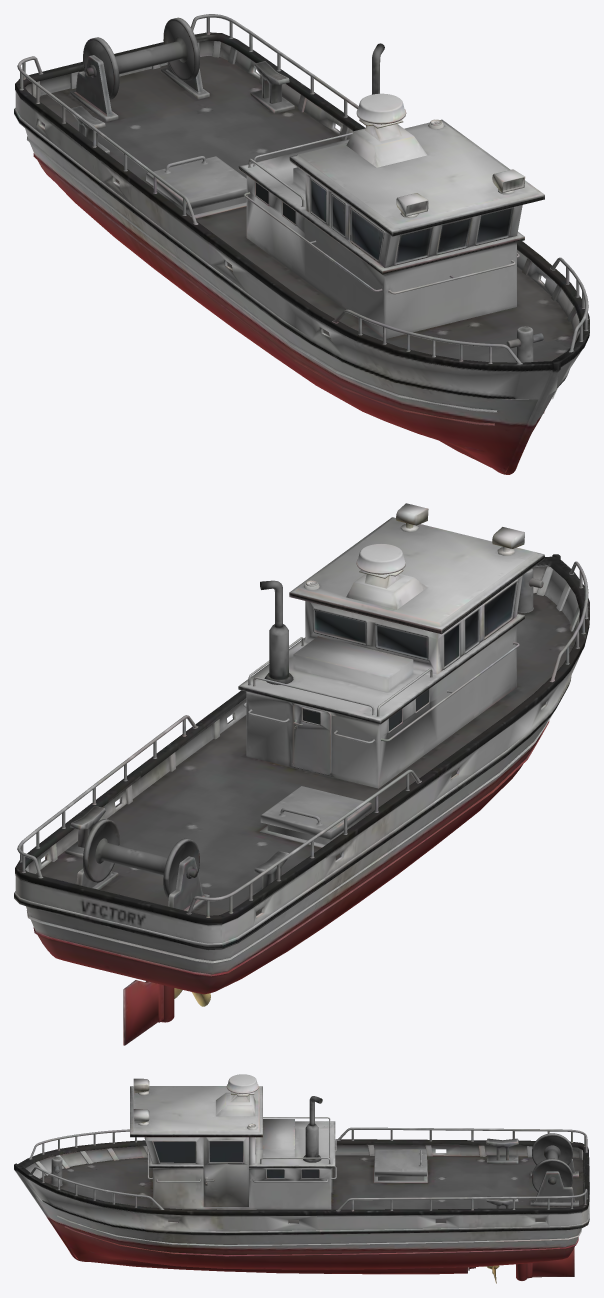
File: FishingBoat2.glb
3 renders of one model, top to bottom at view 1: azimuth 30°, elevation 25°; view 2: azimuth 150°, elevation 25°; view 3: azimuth 270°, elevation 25°, orthographic. The views are drawn at different scales.
Parts seen in each view (by area): view 1: Fishing_Boat; view 2: Fishing_Boat; view 3: Fishing_Boat.
Boxes of the visible parts, x1,y1,x2,y2 form: Fishing_Boat: [14, 14, 589, 474]; Fishing_Boat: [14, 503, 589, 1045]; Fishing_Boat: [14, 1074, 589, 1283].
Bounding box in the file's own units: 4.44 × 5.65 × 14.77.
1 material, 1 textured.
